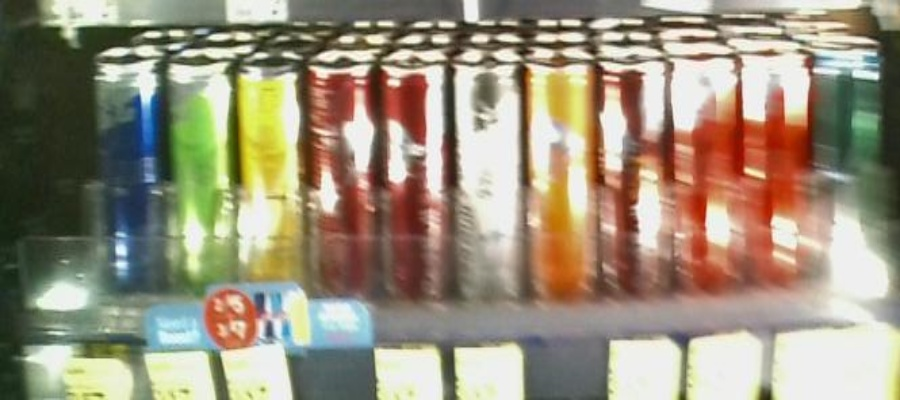bottle: (524, 38, 595, 293), (380, 40, 449, 299), (166, 42, 235, 297), (453, 42, 521, 299), (310, 34, 378, 290), (743, 43, 812, 290), (92, 43, 162, 286), (238, 47, 306, 297), (602, 43, 669, 288), (817, 36, 881, 290), (671, 45, 738, 286)
